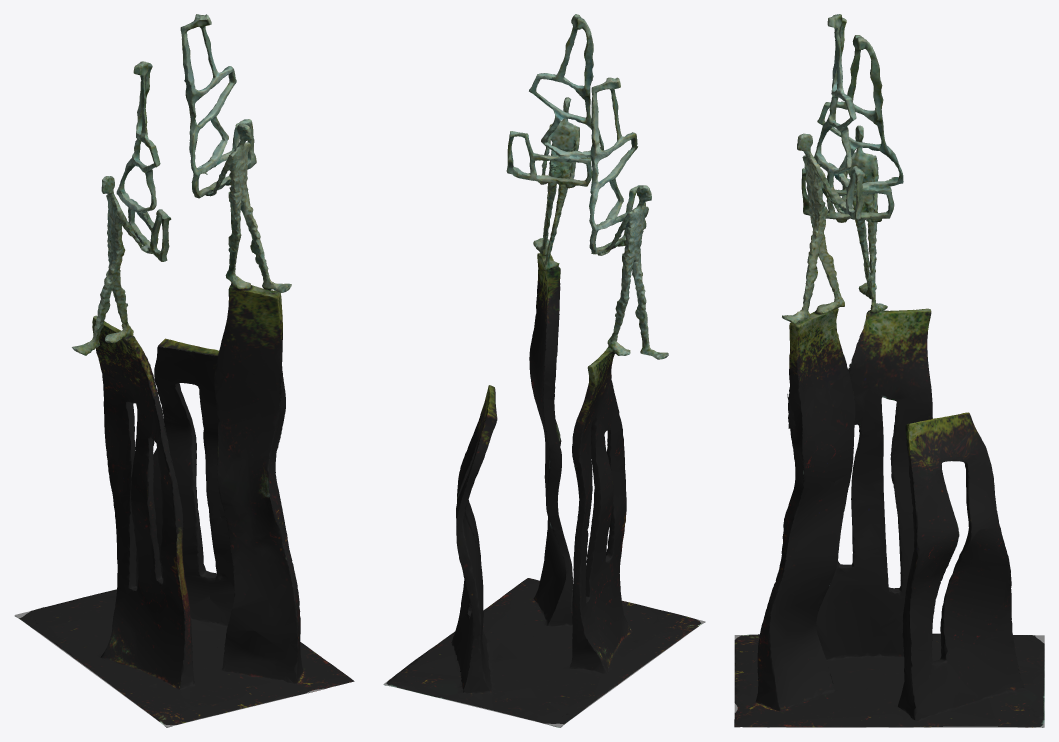
3 renders of one model, left to right at view 1: azimuth 30°, elevation 25°; view 2: azimuth 150°, elevation 25°; view 3: azimuth 270°, elevation 25°, orthographic. The views are drawn at different scales.
Visible parts, largest first — view 1: mmGroup0; view 2: mmGroup0; view 3: mmGroup0.
Boxes of the visible parts, x1,y1,x2,y2 form: mmGroup0: (15, 14, 354, 727); mmGroup0: (384, 14, 705, 727); mmGroup0: (734, 14, 1044, 727).
Bounding box in the file's own units: 9.65 × 28.18 × 11.95.
2 materials, 1 textured.
